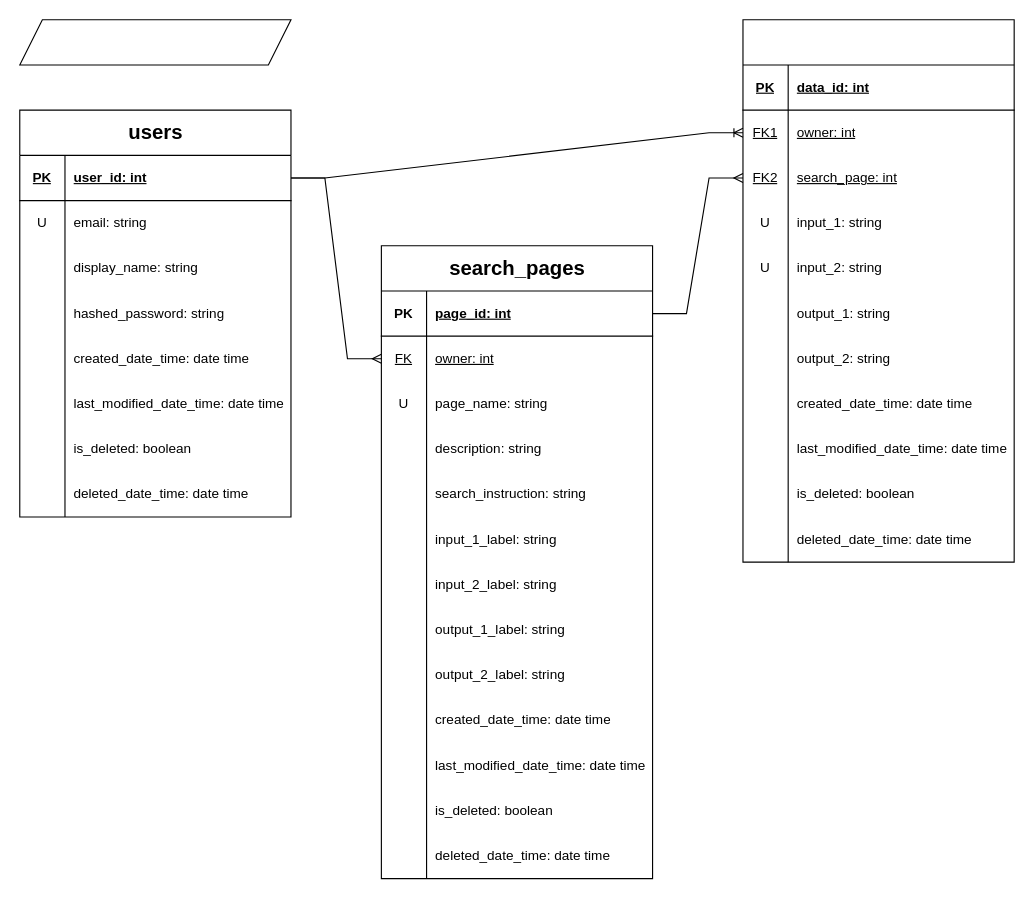
Some shapes in this 1034 by 898 pixel diagram are drawn without their labels. The shapes that lost their labels are listed below. From the top down, each one's box as (x1, y1, x2, y2) in pixels, then its label:
(19, 19, 291, 65): ERD - PHASE 1
(742, 19, 1014, 562): search_data
